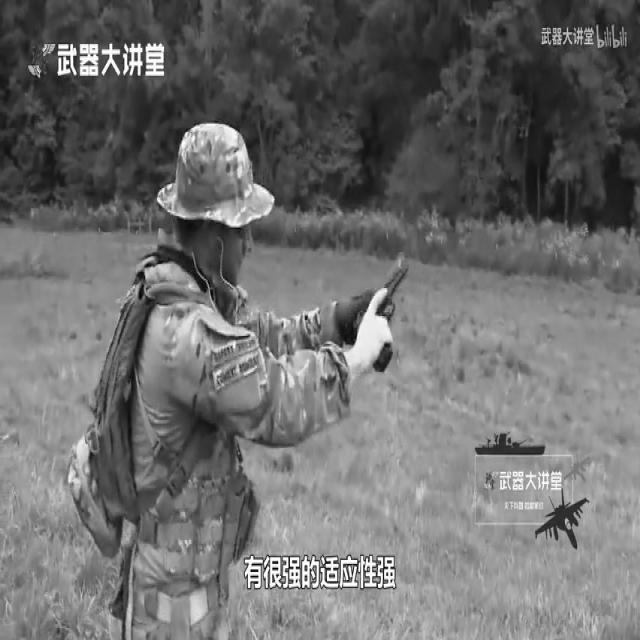Hand-Gun: (298, 218, 471, 454)
